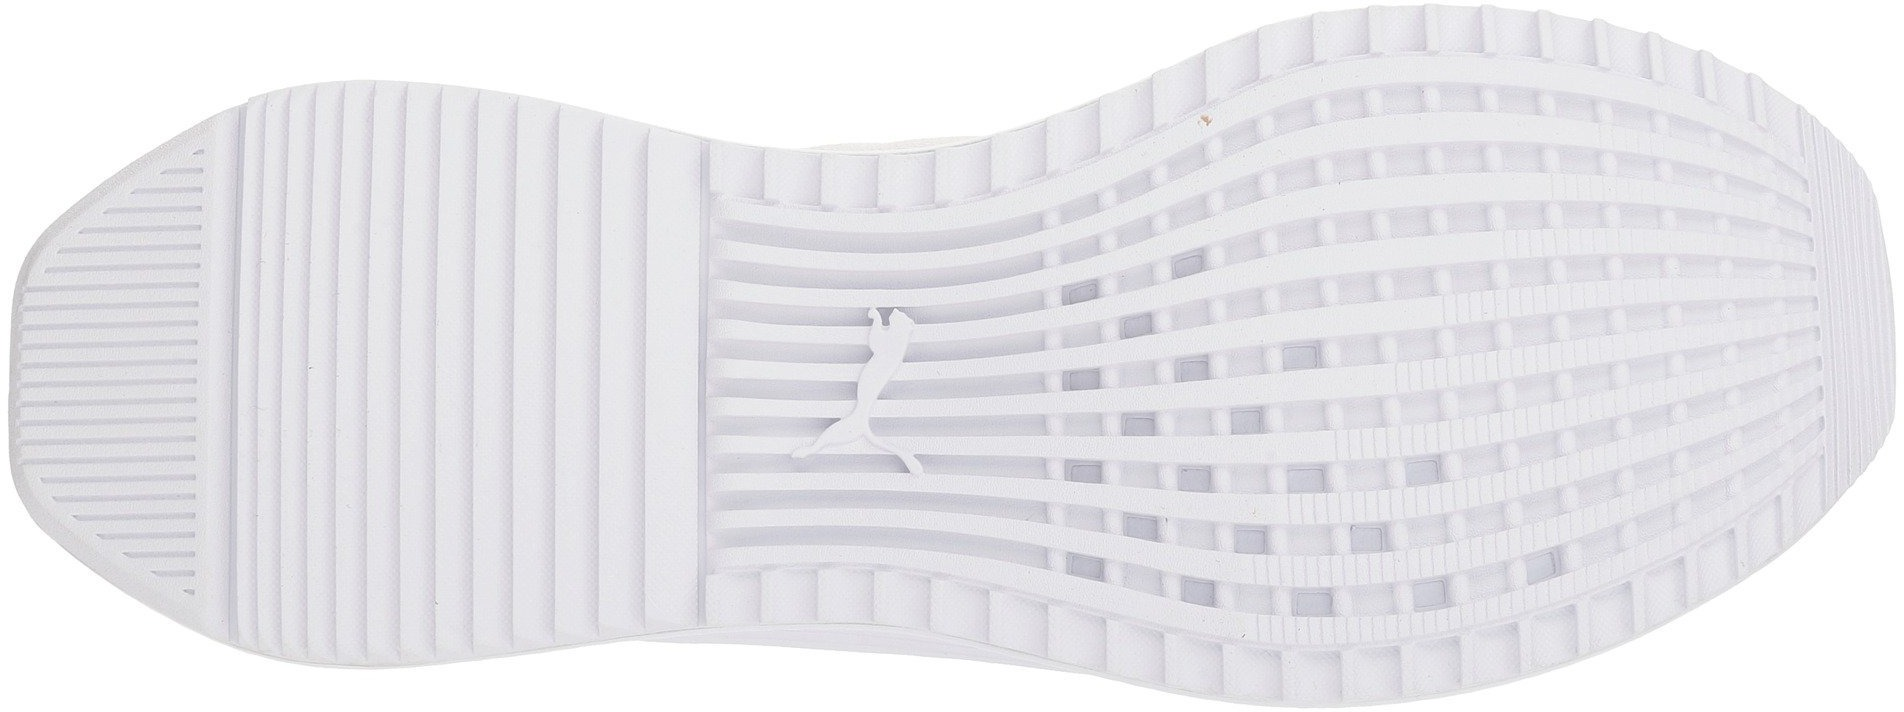line: (236, 163, 686, 594)
other: (790, 307, 940, 475), (36, 245, 199, 390), (36, 392, 200, 532), (1802, 326, 1889, 423), (1797, 225, 1885, 320)
quad: (1417, 145, 1804, 532), (1053, 169, 1430, 556), (792, 153, 954, 307), (787, 482, 948, 631)
